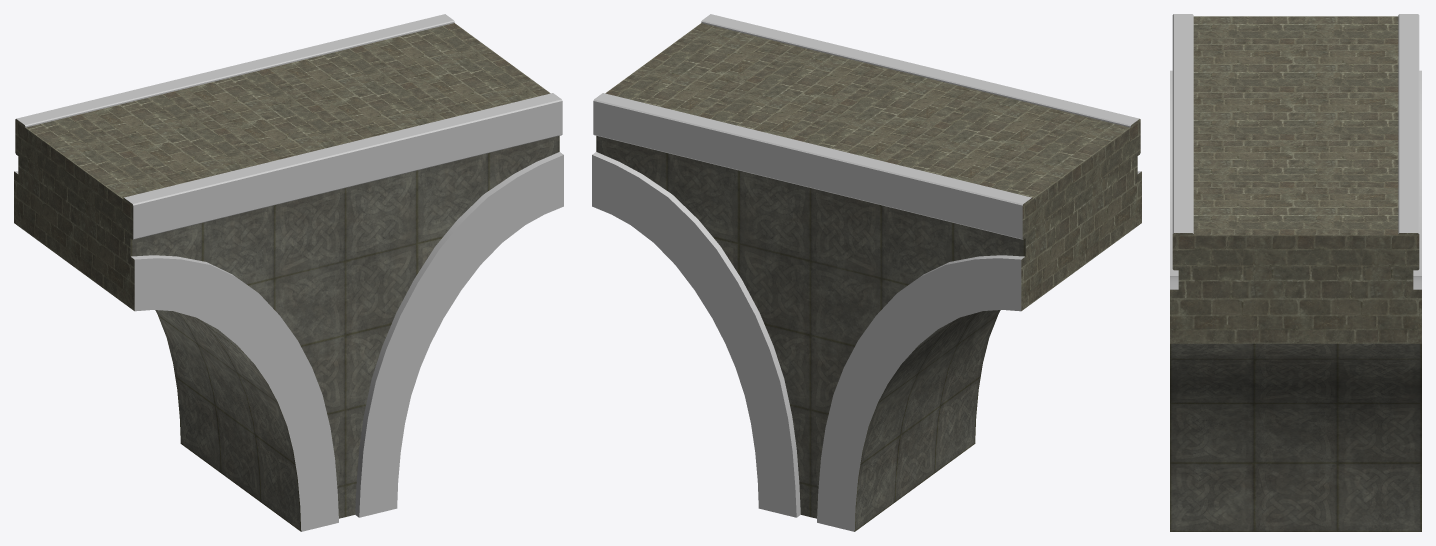
File: bridge_mid_03.fbx
3 views of the same model, side by side, from view 1: azimuth 30°, elevation 25°; view 2: azimuth 150°, elevation 25°; view 3: azimuth 270°, elevation 25° (orthographic). The views are drawn at different scales.
Parts seen in each view (by area): view 1: bridge_mid_03; view 2: bridge_mid_03; view 3: bridge_mid_03.
Boxes of the visible parts, x1,y1,x2,y2 form: bridge_mid_03: (14,14,563,531); bridge_mid_03: (592,14,1141,531); bridge_mid_03: (1170,14,1421,531).
Bounding box in the file's own units: 1600 × 1308 × 777.
